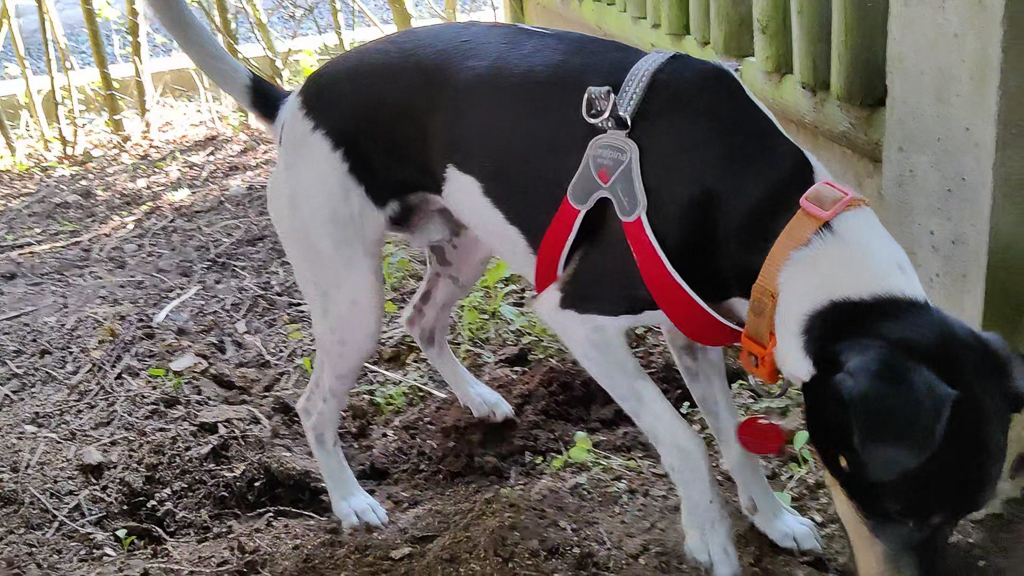Dog: (141, 0, 1024, 576)
